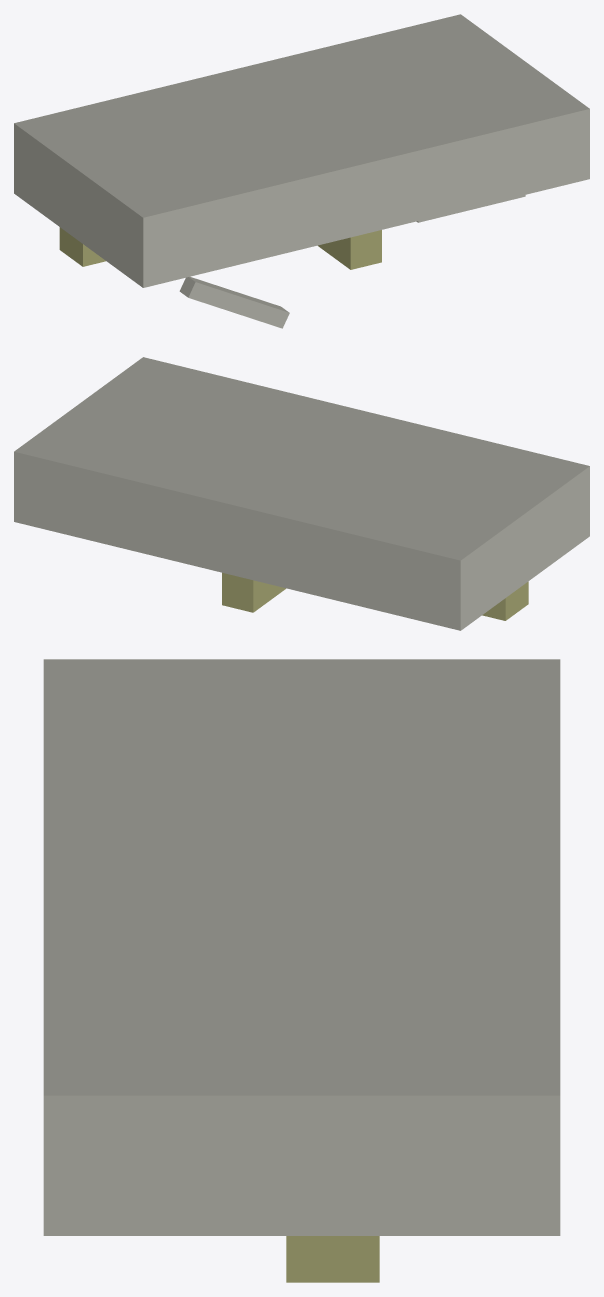
File: SM_AndenLosa_Lateral_v1_TechoCaido_LOD1.fbx
3 views of the same model, one above another, from view 1: azimuth 30°, elevation 25°; view 2: azimuth 150°, elevation 25°; view 3: azimuth 270°, elevation 25° (orthographic). The views are drawn at different scales.
Parts seen in each view (by area): view 1: Losa; view 2: Losa; view 3: Losa.
Boxes of the visible parts, x1=… form: Losa: x1=14, y1=14, x2=589, y2=328; Losa: x1=14, y1=357, x2=589, y2=630; Losa: x1=43, y1=659, x2=560, y2=1282.
Size of what is drawn, in the model's own units: 9.98 by 3.32 by 5.
